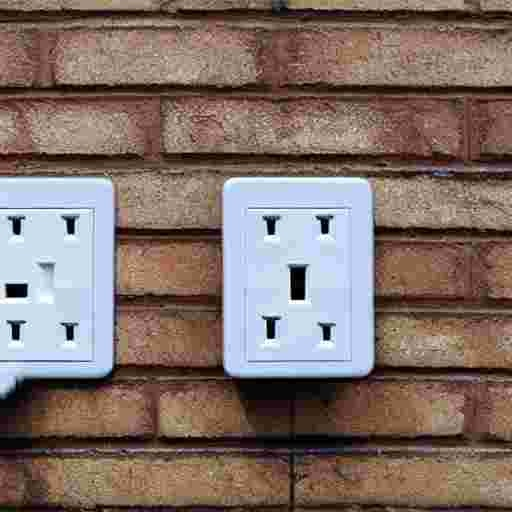power outlet: (223, 177, 373, 377)
